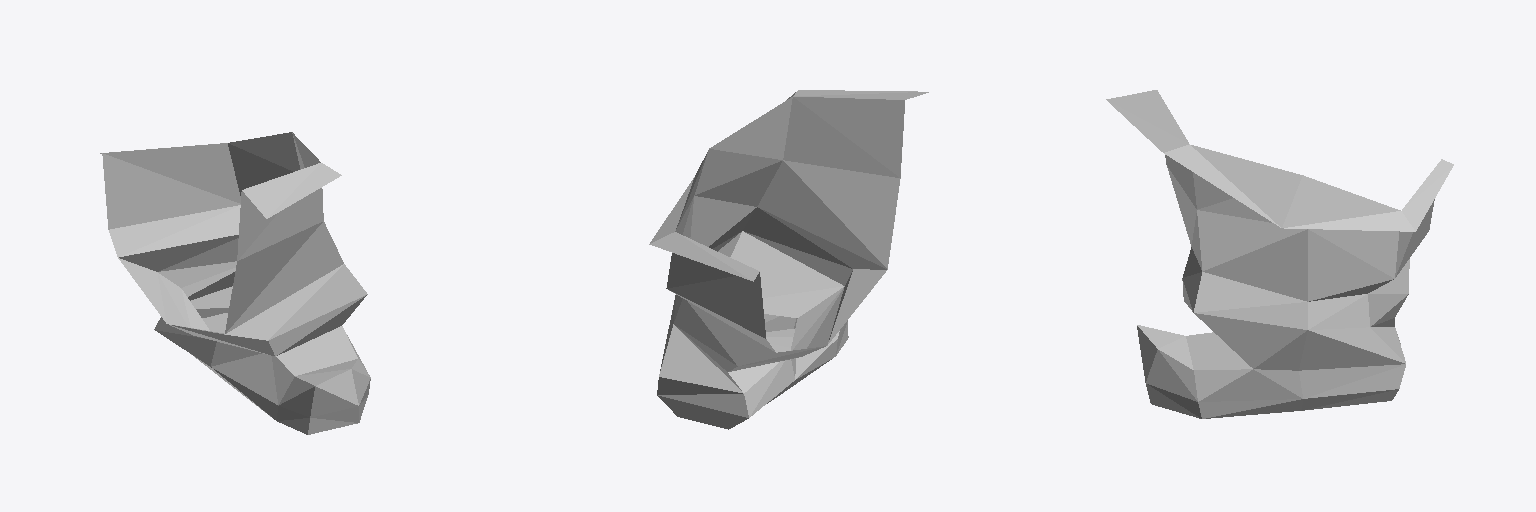
Rendered from l_leg.obj.
The picture shows the model from 3 angles: view 1: azimuth 30°, elevation 25°; view 2: azimuth 150°, elevation 25°; view 3: azimuth 270°, elevation 25°; orthographic projection.
Visible parts, largest first — view 1: mesh04052.001; view 2: mesh04052.001; view 3: mesh04052.001.
Boxes of the visible parts, x1,y1,x2,y2 form: mesh04052.001: [100, 132, 370, 434]; mesh04052.001: [649, 90, 928, 429]; mesh04052.001: [1106, 90, 1453, 418].
Size of the model in its own units: 1.31 by 2.12 by 2.59.